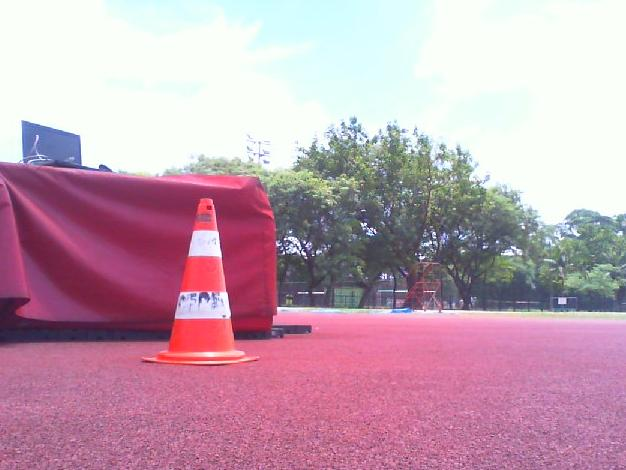0 cone: (141, 199, 259, 364)
